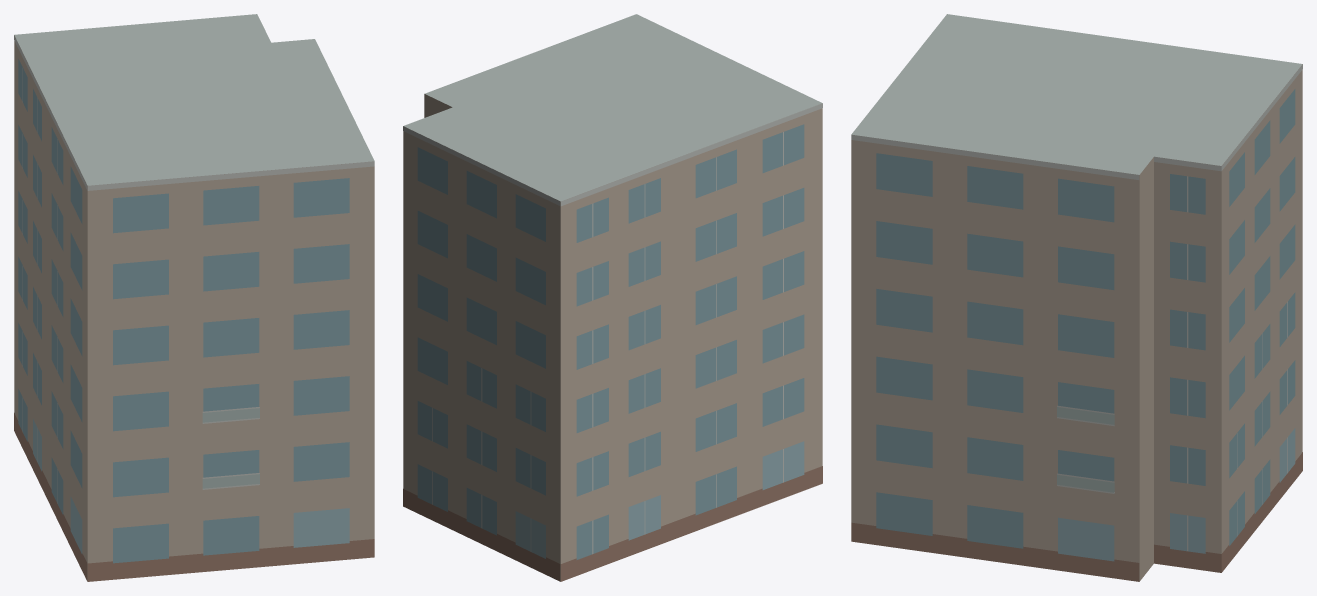
File: survey-upis-32756407.glb
3 renders of one model, left to right at view 1: azimuth 30°, elevation 25°; view 2: azimuth 150°, elevation 25°; view 3: azimuth 270°, elevation 25°, orthographic. The views are drawn at different scales.
Visible parts, largest first — view 1: survey-upis-32756407.tmp; view 2: survey-upis-32756407.tmp; view 3: survey-upis-32756407.tmp.
Boxes of the visible parts, box(x1,y1,x2,y2) form: survey-upis-32756407.tmp: box(14, 14, 374, 581); survey-upis-32756407.tmp: box(403, 14, 822, 581); survey-upis-32756407.tmp: box(851, 14, 1302, 581).
Size of the model in its own units: 15.87 by 18.7 by 18.82.
